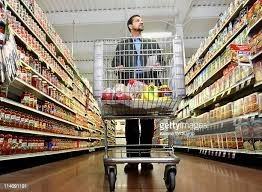with_basket: (92, 37, 184, 188)
without_mask: (127, 14, 145, 32)
